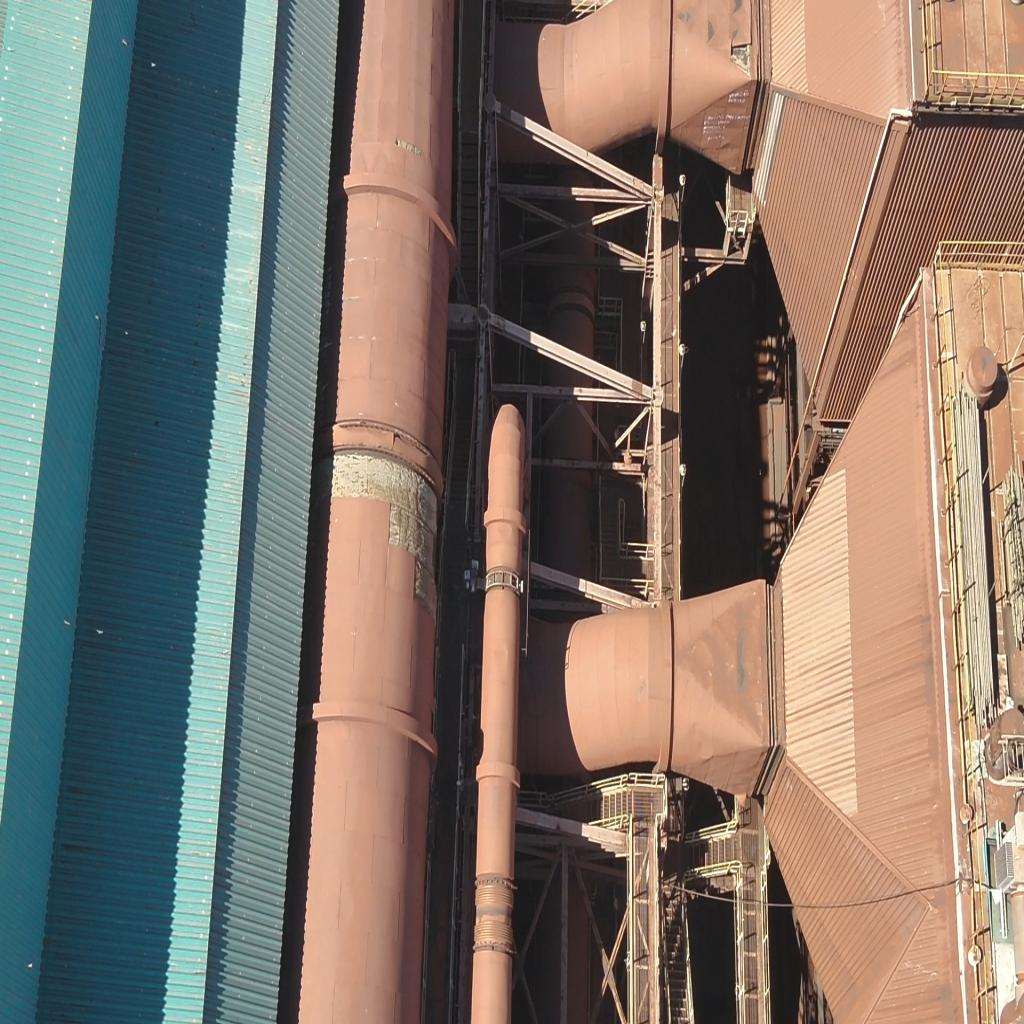Failures: (310, 439, 439, 610), (723, 35, 752, 74)
